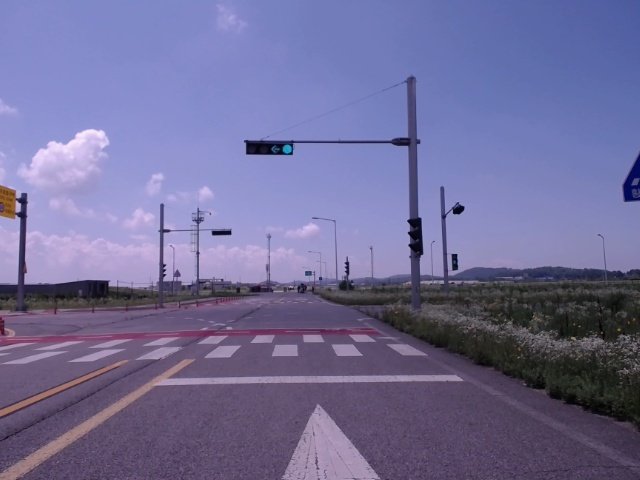all_green_4: (247, 142, 294, 154)
